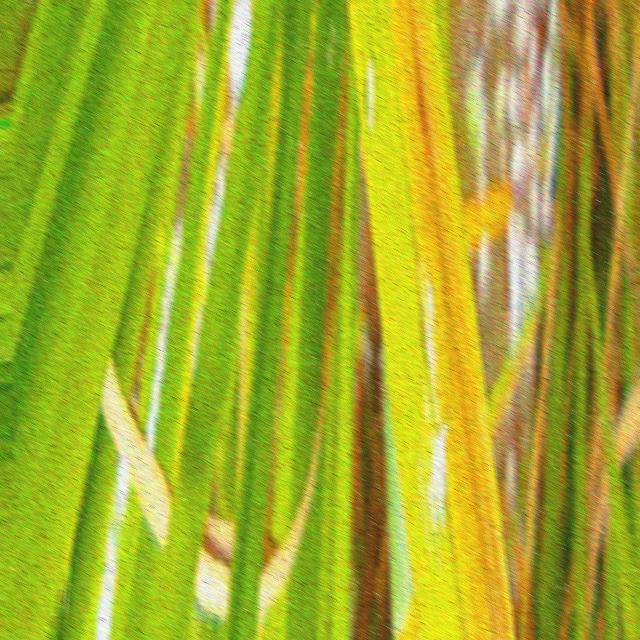NBS: (414, 63, 429, 138)
